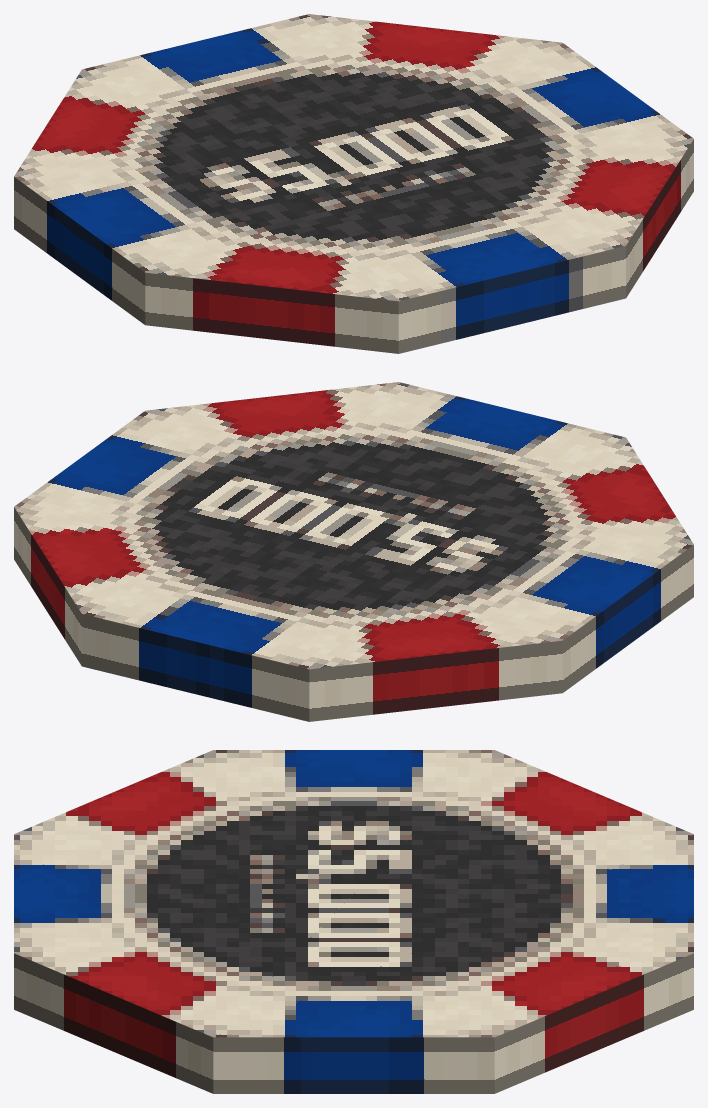
The model's file is chip_5000.glb.
3 renders of one model, top to bottom at view 1: azimuth 30°, elevation 25°; view 2: azimuth 150°, elevation 25°; view 3: azimuth 270°, elevation 25°, orthographic. The views are drawn at different scales.
Visible parts, largest first — view 1: chip_5000; view 2: chip_5000; view 3: chip_5000.
Boxes of the visible parts, bbox=[...] form: chip_5000: bbox=[14, 14, 693, 353]; chip_5000: bbox=[14, 382, 693, 721]; chip_5000: bbox=[14, 750, 693, 1093].
Size of the model in its own units: 0.036 by 0.0033 by 0.036.
Materials: 1 (1 with a texture image).
